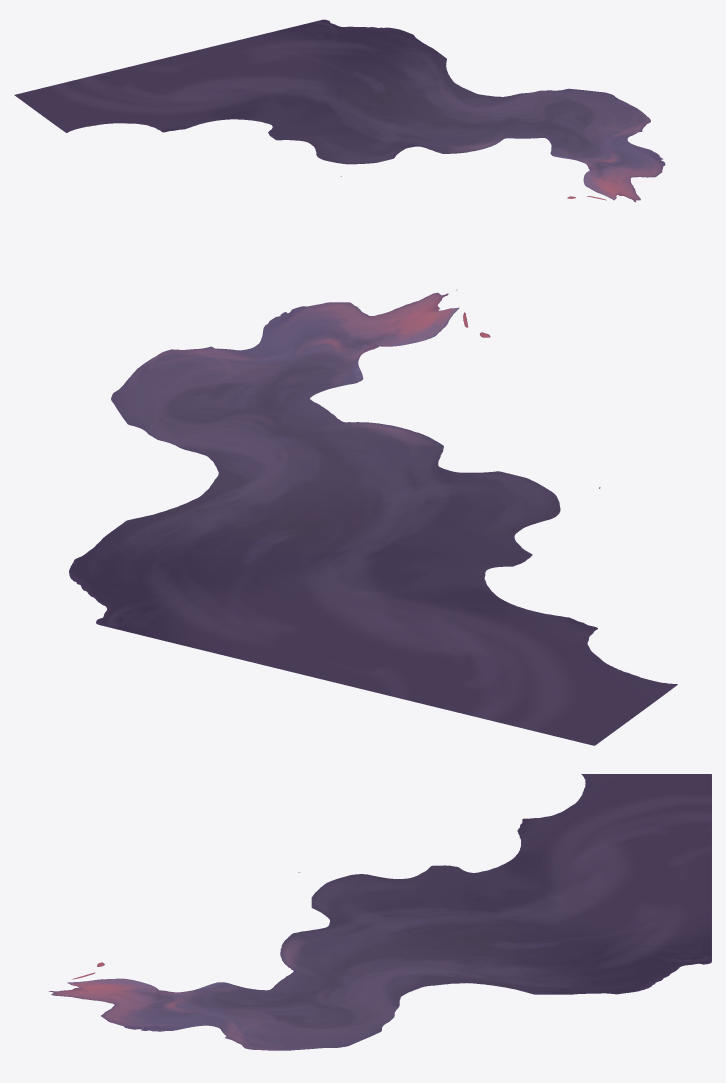
The model's file is map01_smoke.FBX.
3 renders of one model, top to bottom at view 1: azimuth 30°, elevation 25°; view 2: azimuth 150°, elevation 25°; view 3: azimuth 270°, elevation 25°, orthographic. The views are drawn at different scales.
Parts seen in each view (by area): view 1: map01_smoke; view 2: map01_smoke; view 3: map01_smoke.
Part boxes in pixels (<box>): map01_smoke: <box>14,19,665,202</box>; map01_smoke: <box>69,289,677,745</box>; map01_smoke: <box>48,774,711,1050</box>.
Bounding box in the file's own units: 1914 × 5.42e-13 × 1914.
Materials: 1 (1 with a texture image).
